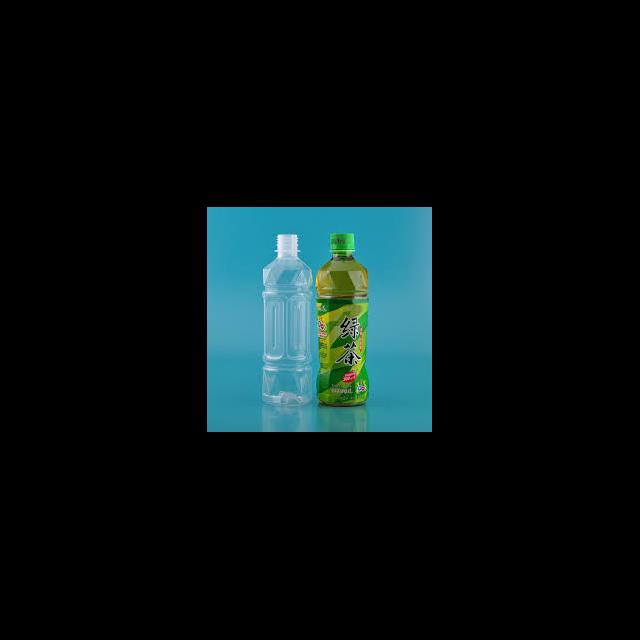plastic: (316, 232, 369, 406), (262, 234, 312, 406), (316, 296, 368, 406), (330, 232, 356, 252)
